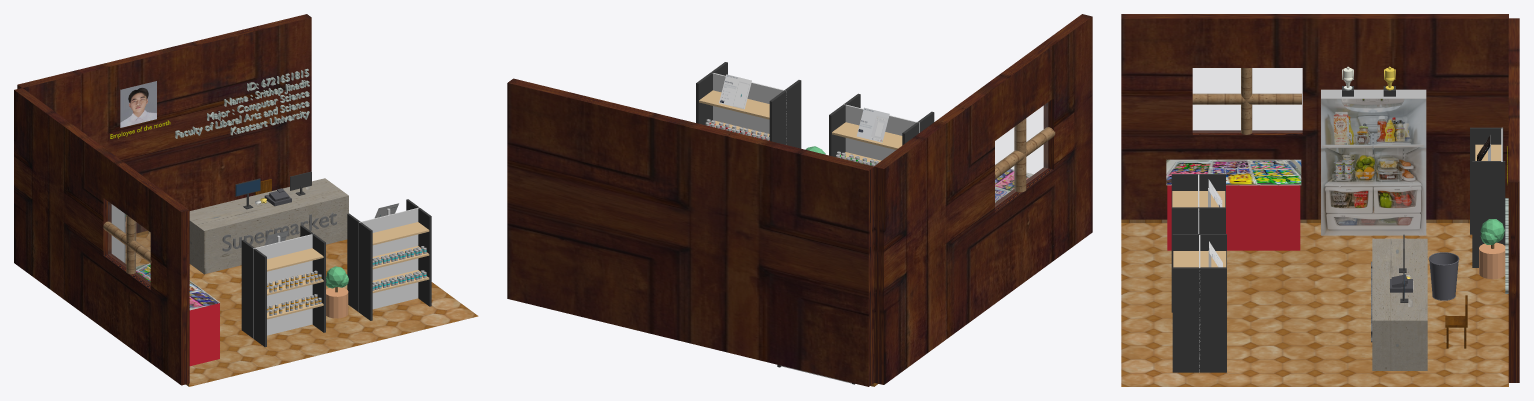
File: SupermaketModel-final.glb
3 views of the same model, side by side, from view 1: azimuth 30°, elevation 25°; view 2: azimuth 150°, elevation 25°; view 3: azimuth 270°, elevation 25° (orthographic). The views are drawn at different scales.
Parts seen in each view (by area): view 1: Cube.002, Cube.001, Plane.007, Cube, Gondola_Center_Panel.001, Text, Gondola_Center_Panel, Frame_Post_-0.58, Frame_Post_-0.001, Cube.006, Plane.001, Plane (+11 smaller); view 2: Cube.002, Cube.001, Plane.001, Frame_Post_-0.001, Gondola_Center_Panel.001, Gondola_Center_Panel, Plane.002, Cylinder.001, Plane.005, Frame_Post_0.001, Frame_Post_0.58, Cylinder (+3 smaller); view 3: Cube.001, Plane.007, Plane.003, Cube, Frame_Post_0.001, Plane.001, Cube.006, Cube.002, Plane.004, Frame_Post_0.003, Frame_Post_0.58, Cylinder.001 (+11 smaller).
Part boxes in pixels (x1,y1,x2,y2): Cube.002: [17, 14, 311, 233]; Cube.001: [14, 88, 189, 385]; Plane.007: [125, 230, 478, 386]; Cube: [189, 178, 348, 274]; Gondola_Center_Panel.001: [358, 207, 419, 311]; Text: [175, 68, 309, 138]; Gondola_Center_Panel: [253, 233, 313, 338]; Frame_Post_-0.58: [241, 239, 266, 347]; Frame_Post_-0.001: [347, 213, 372, 320]; Cube.006: [189, 303, 219, 366]; Plane.001: [108, 202, 150, 284]; Plane: [120, 81, 156, 127]; Cube.002: [507, 78, 874, 386]; Cube.001: [874, 14, 1092, 384]; Plane.001: [995, 103, 1047, 206]; Frame_Post_-0.001: [769, 80, 801, 148]; Gondola_Center_Panel.001: [712, 73, 786, 144]; Gondola_Center_Panel: [844, 104, 919, 160]; Plane.002: [719, 74, 751, 109]; Cylinder.001: [995, 127, 1055, 179]; Plane.005: [856, 107, 889, 142]; Frame_Post_0.001: [696, 62, 727, 125]; Frame_Post_0.58: [829, 93, 860, 156]; Cylinder: [1014, 118, 1026, 192]; Cube.001: [1121, 14, 1508, 219]; Plane.007: [1121, 219, 1508, 386]; Plane.003: [1321, 98, 1426, 235]; Cube: [1372, 238, 1427, 370]; Frame_Post_0.001: [1172, 267, 1226, 372]; Plane.001: [1193, 68, 1302, 132]; Cube.006: [1167, 185, 1300, 250]; Cube.002: [1508, 18, 1519, 382]; Plane.004: [1166, 159, 1301, 185]; Frame_Post_0.003: [1472, 161, 1505, 267]; Frame_Post_0.58: [1171, 207, 1225, 312]; Cylinder.001: [1192, 93, 1301, 104].
Bounding box in the file's own units: 7.19 × 4.21 × 7.19.
Materials: 51 (18 with a texture image).
